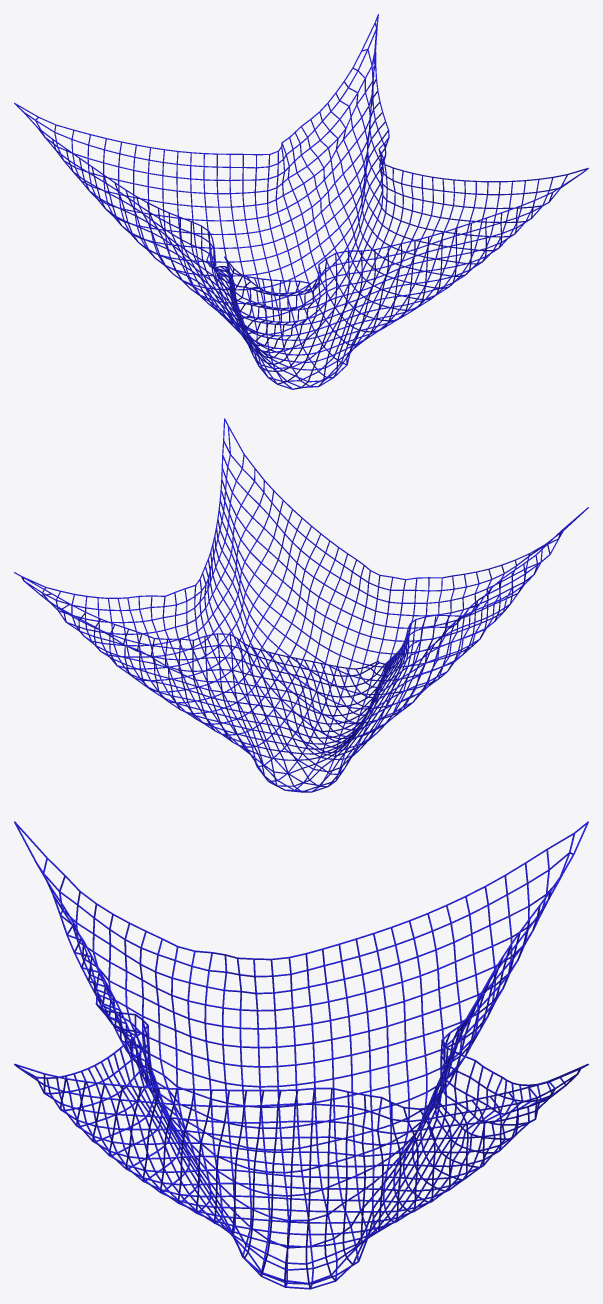
File: fishing-net.glb
3 views of the same model, one above another, from view 1: azimuth 30°, elevation 25°; view 2: azimuth 150°, elevation 25°; view 3: azimuth 270°, elevation 25° (orthographic). The views are drawn at different scales.
Size of the model in its own units: 4.01 by 2.62 by 4.01.
